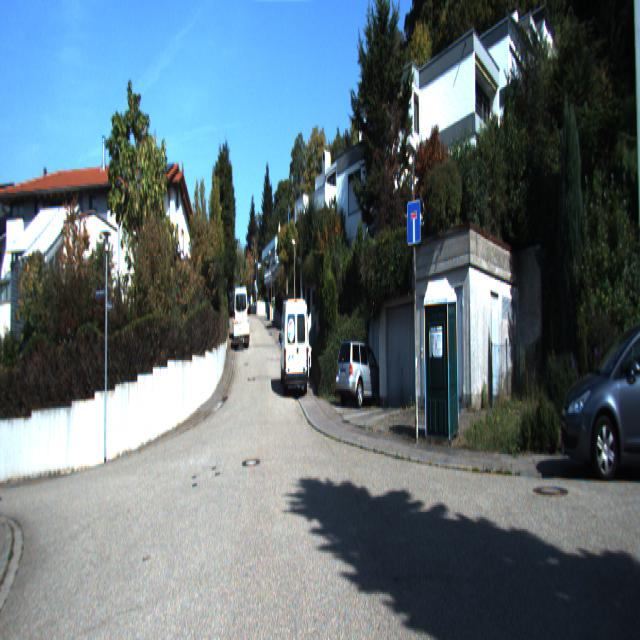Car: (560, 300, 640, 473), (336, 335, 390, 407), (280, 294, 311, 397), (235, 286, 248, 340), (234, 317, 251, 345)
